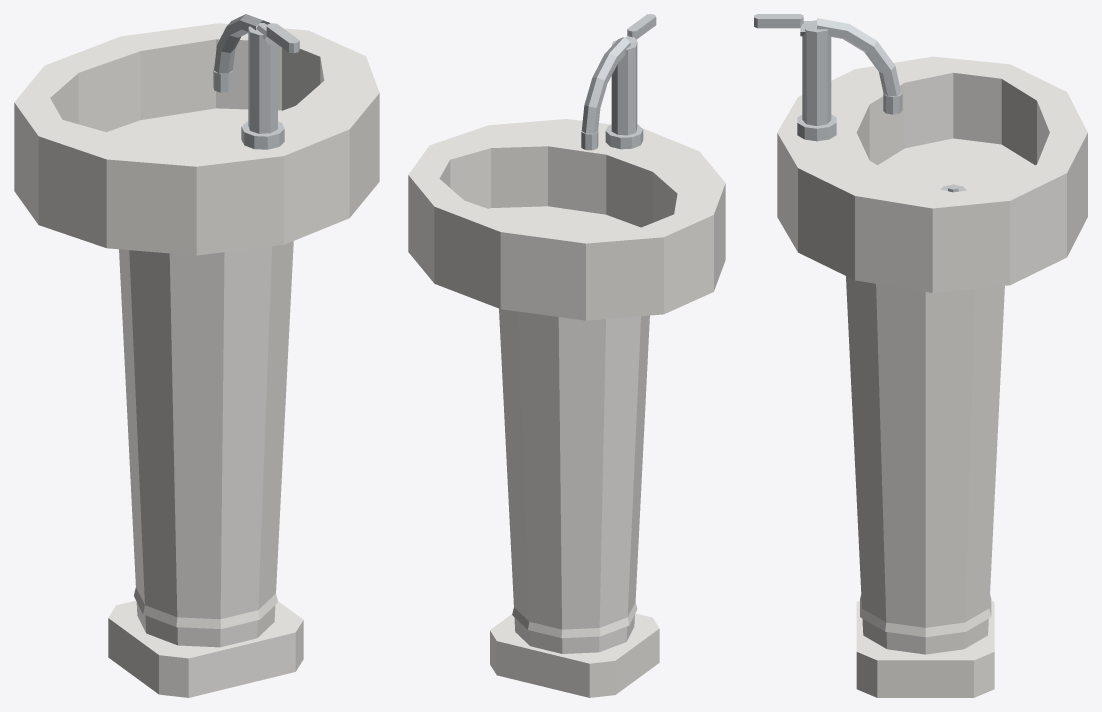
File: SM_LPI_Bath_Basin_01.fbx
3 views of the same model, side by side, from view 1: azimuth 30°, elevation 25°; view 2: azimuth 150°, elevation 25°; view 3: azimuth 270°, elevation 25° (orthographic). The views are drawn at different scales.
Visible parts, largest first — view 1: SM_LPI_Bath_Basin_01; view 2: SM_LPI_Bath_Basin_01; view 3: SM_LPI_Bath_Basin_01.
Part boxes in pixels (left/top/right/bottom): SM_LPI_Bath_Basin_01: left=14, top=14, right=379, bottom=697; SM_LPI_Bath_Basin_01: left=408, top=14, right=725, bottom=697; SM_LPI_Bath_Basin_01: left=754, top=14, right=1087, bottom=697.
Bounding box in the file's own units: 0.5208 × 1.04 × 0.4835.
